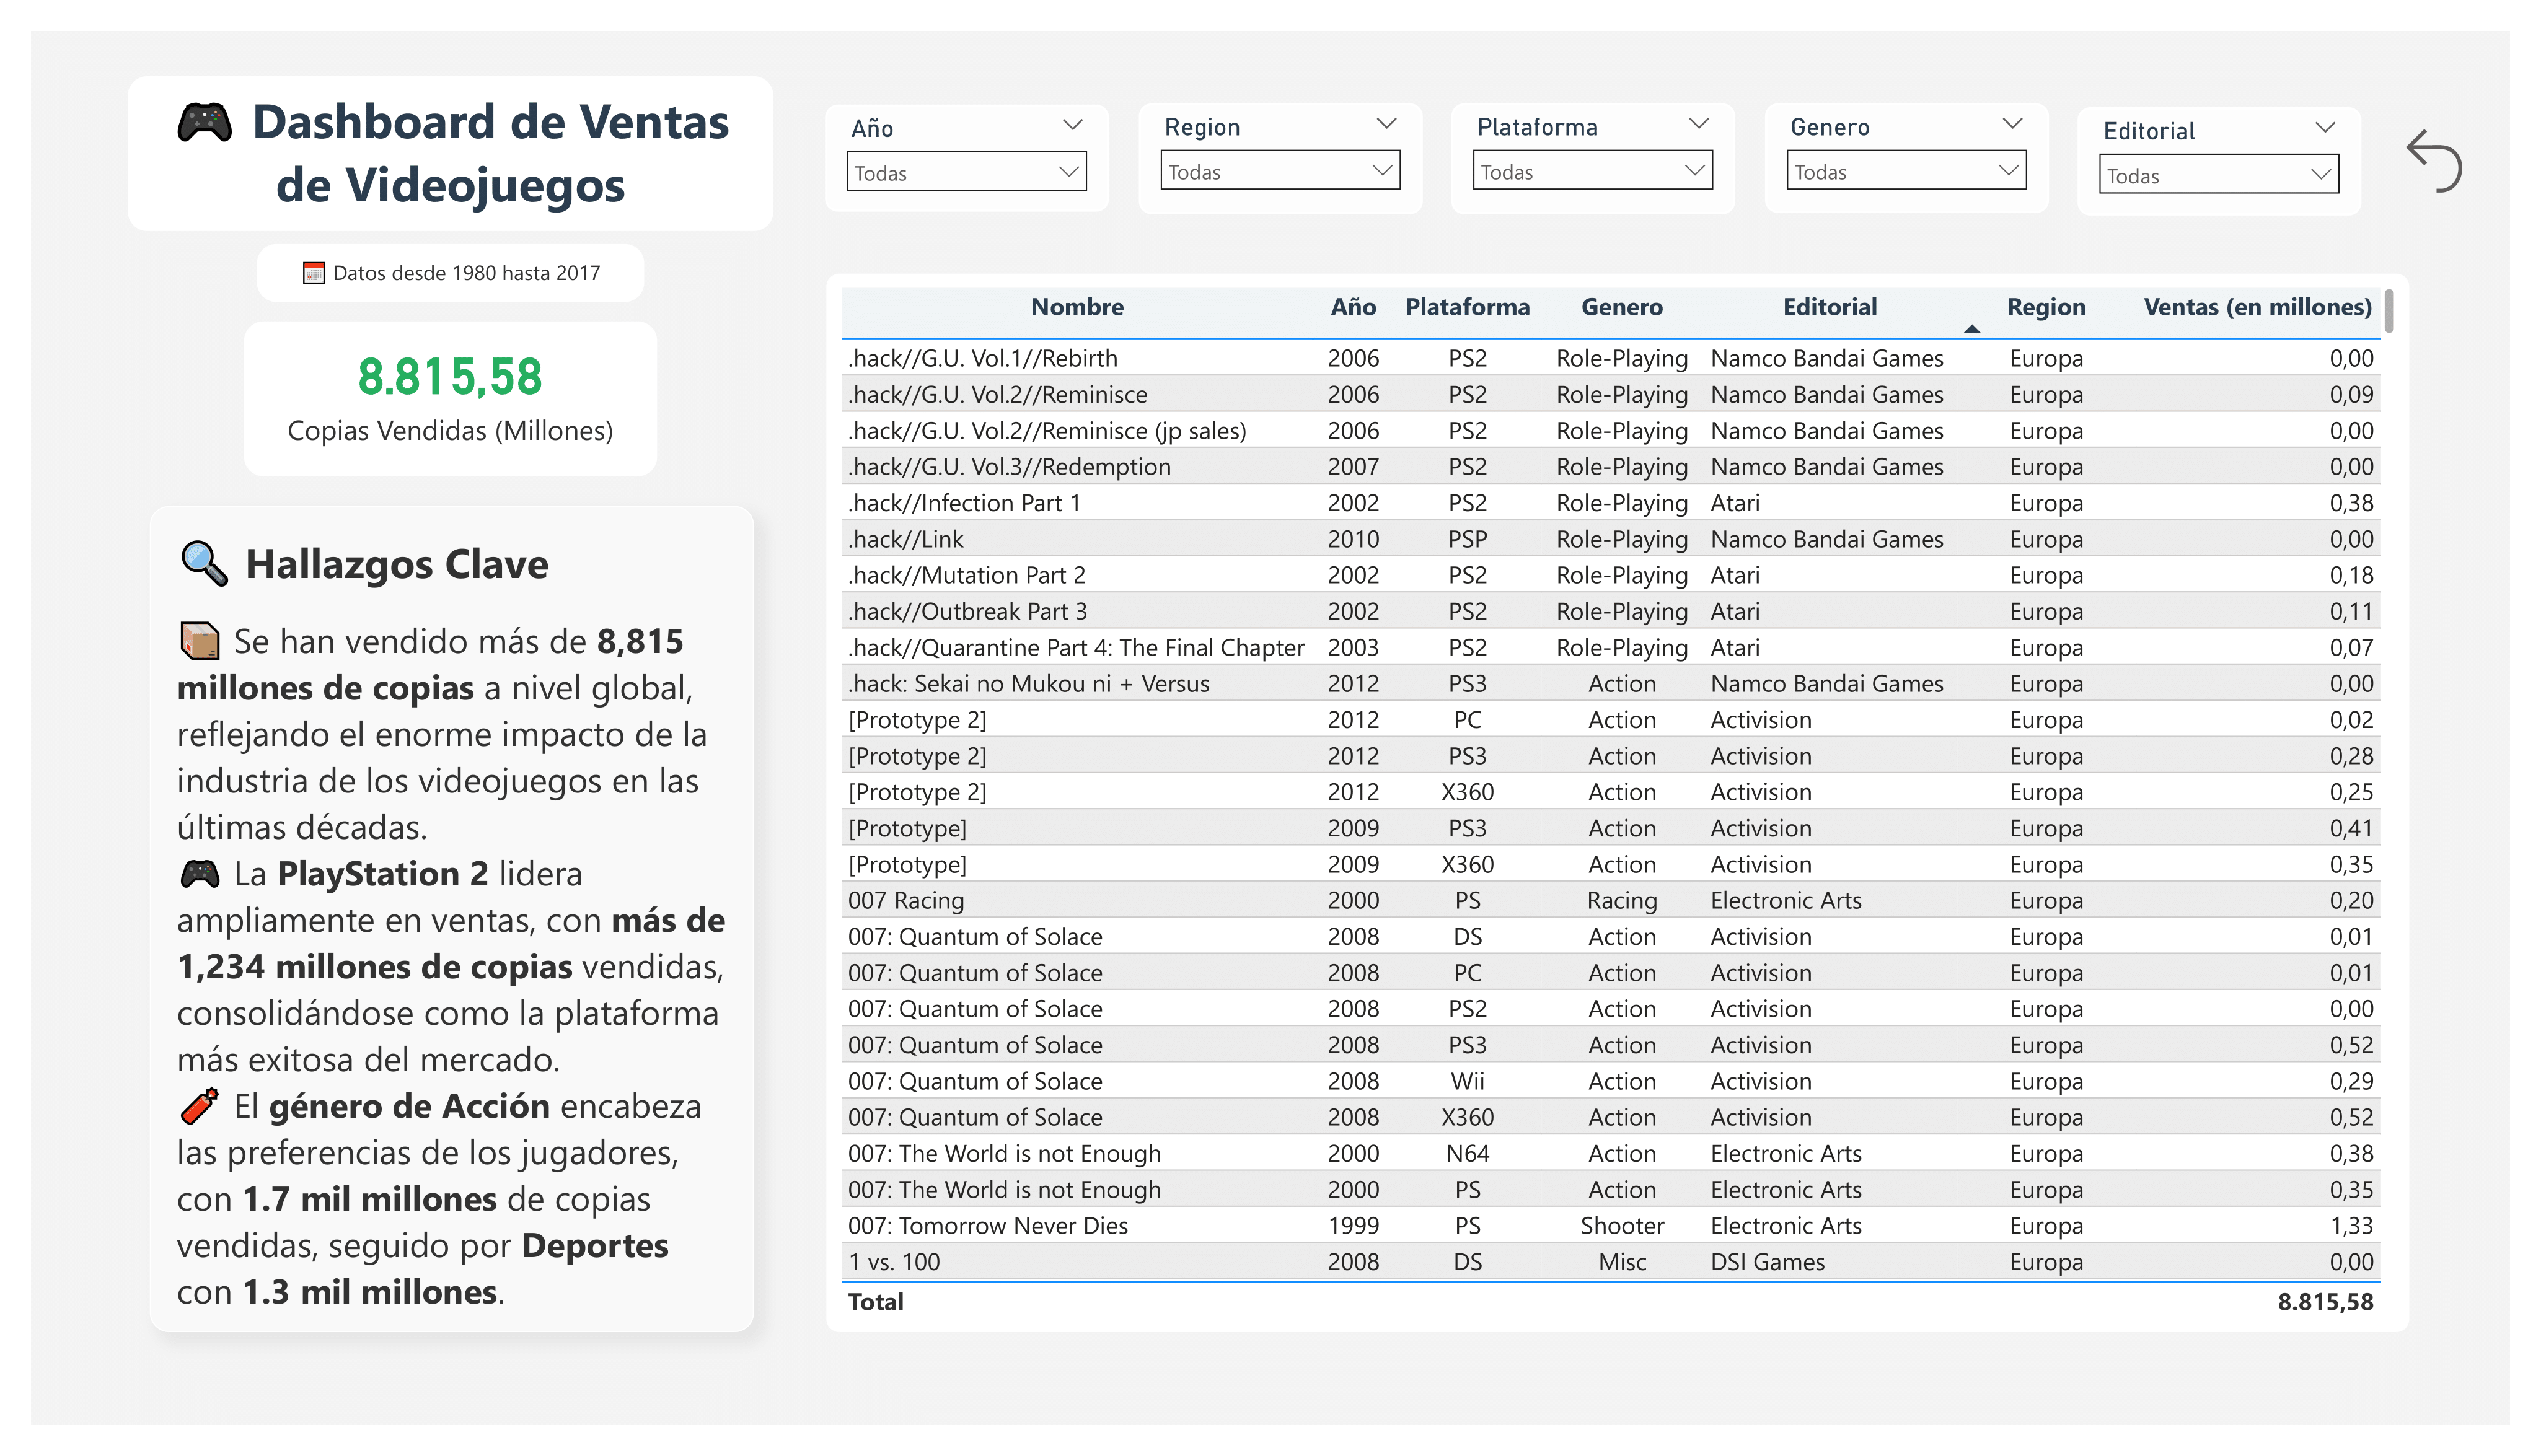

The dashboard page shown, as its layout file describes it:
{"tool":"powerbi","page":{"name":"Detalles por Videojuego","canvas":[1920,1080],"ordinal":1},"visuals":[{"type":"card","fields":{"Values":["Sum(Ventas Videojuegos.Ventas (Millones))"]},"box":[165,225,320,120],"z":0},{"type":"textbox","box":[75,35,500,120],"z":6000},{"type":"textbox","box":[175,165,300,45],"z":8000},{"type":"textbox","box":[75.9,368.7,485.8,644.1],"z":9000},{"type":"tableEx","fields":{"Values":["Ventas_Videojuegos.Nombre","Ventas_Videojuegos.Año","Ventas_Videojuegos.Plataforma","Ventas_Videojuegos.Genero","Ventas_Videojuegos.Editorial","Ventas_Videojuegos.Region","Sum(Ventas_Videojuegos.Ventas (Millones))"]},"box":[615,187.5,1227.5,825],"z":10000},{"type":"slicer","fields":{"Values":["Ventas Videojuegos.Año"]},"box":[620,39.8,220,82.5],"z":10001},{"type":"slicer","fields":{"Values":["Ventas Videojuegos.Region"]},"box":[862.5,38.7,220,85.5],"z":10002},{"type":"slicer","fields":{"Values":["Ventas Videojuegos.Plataforma"]},"box":[1105,38.7,220,85.5],"z":10003},{"type":"slicer","fields":{"Values":["Ventas Videojuegos.Genero"]},"box":[1347.5,38.9,220,85],"z":10004},{"type":"slicer","fields":{"Values":["Ventas Videojuegos.Editorial"]},"box":[1590,41.3,220,84],"z":10005},{"type":"actionButton","box":[1830,65,62.5,70],"z":10006}]}

Visuals, with their boxes in screenshot pixels (x1, y1, x2, y2):
card - Sum(Ventas Videojuegos.Ventas (Millones)): <box>244,322,657,476</box>
textbox: <box>128,76,773,231</box>
textbox: <box>257,244,645,302</box>
textbox: <box>129,507,756,1338</box>
tableEx - Ventas_Videojuegos.Nombre x Ventas_Videojuegos.Año: <box>825,273,2410,1338</box>
slicer - Ventas Videojuegos.Año: <box>832,82,1116,189</box>
slicer - Ventas Videojuegos.Region: <box>1145,81,1429,191</box>
slicer - Ventas Videojuegos.Plataforma: <box>1458,81,1742,191</box>
slicer - Ventas Videojuegos.Genero: <box>1771,81,2055,191</box>
slicer - Ventas Videojuegos.Editorial: <box>2084,84,2368,193</box>
actionButton: <box>2394,115,2475,205</box>
